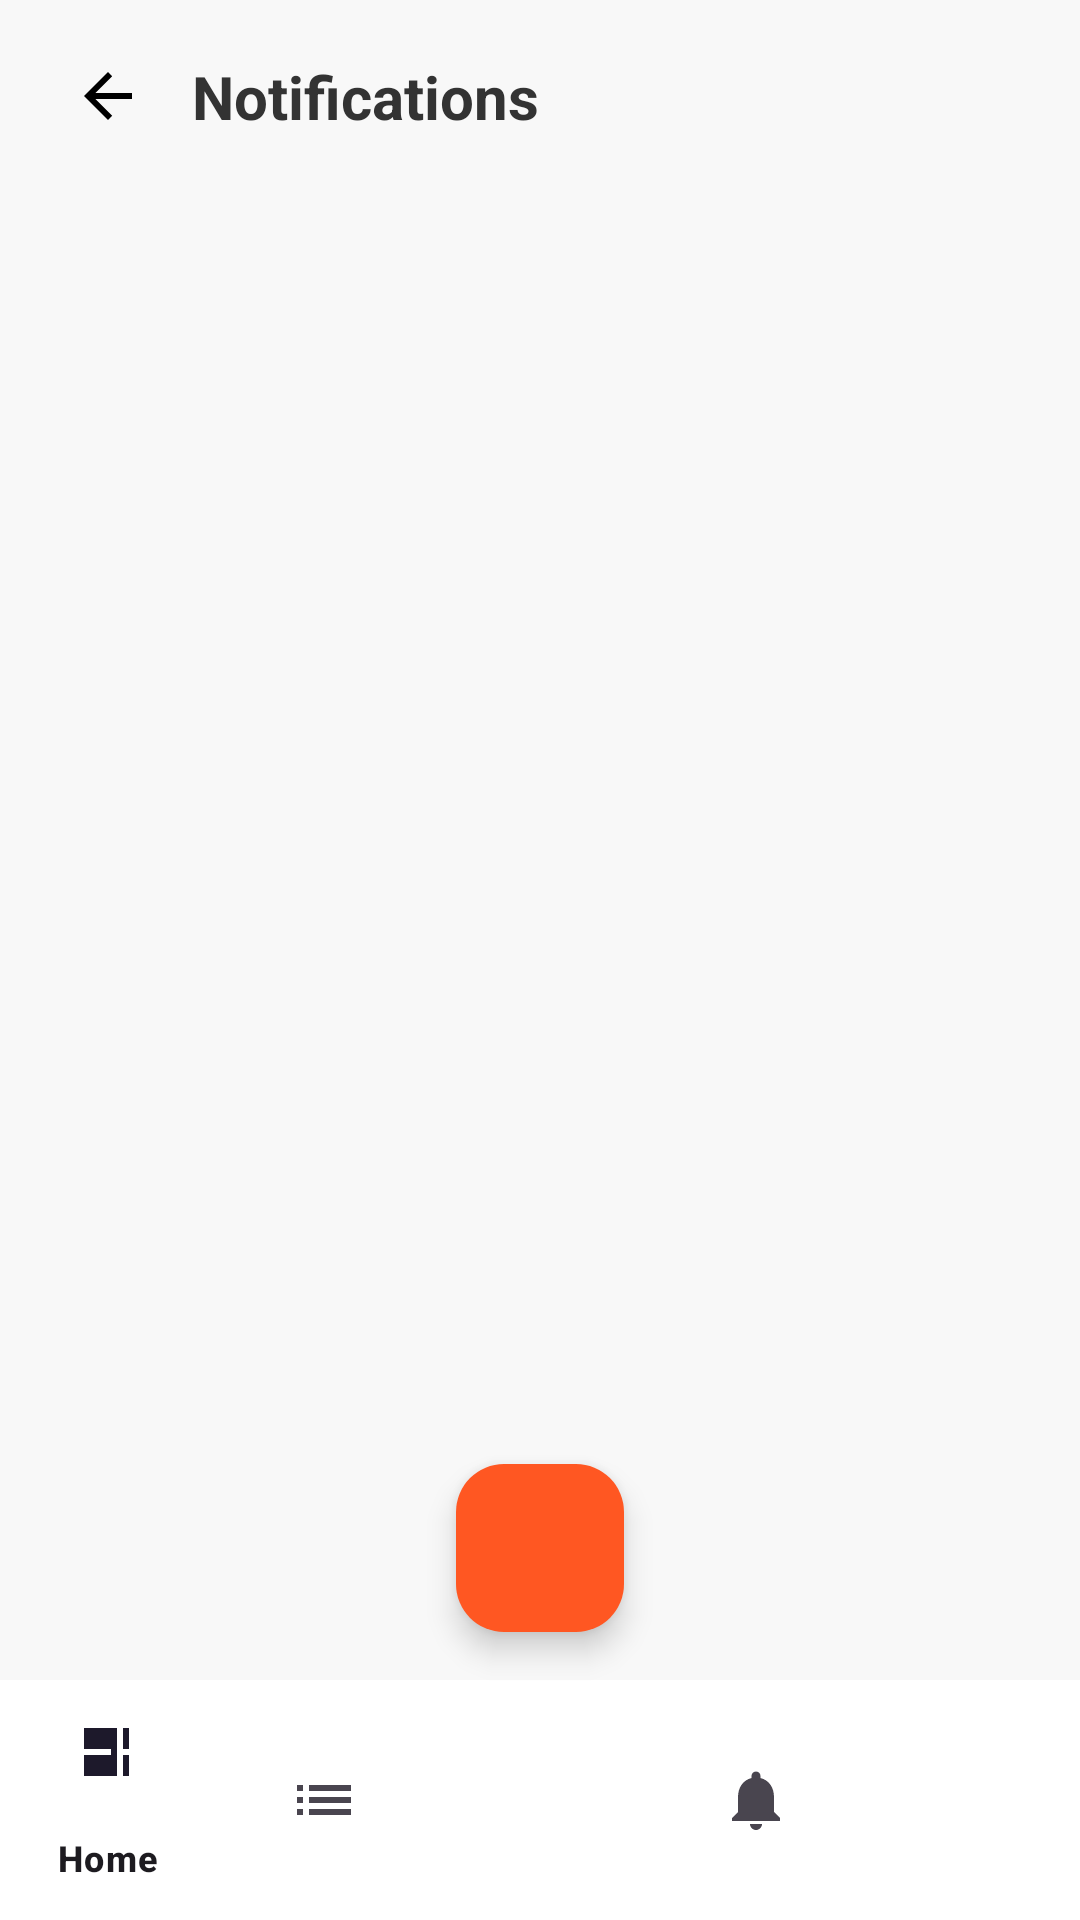

Where to tap for icons on this 1080 × 1920 app screen, as (x,y):
Back button: (108,96)
